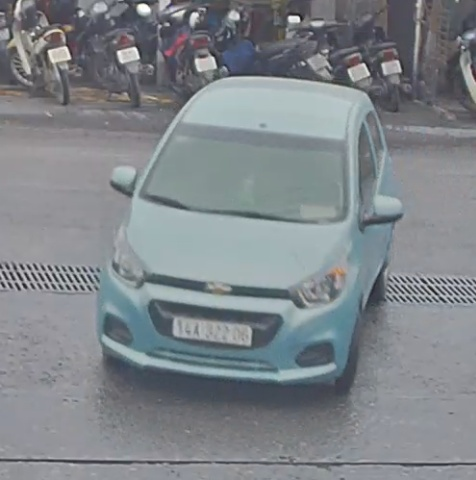vehicle plate: (168, 310, 254, 347)
